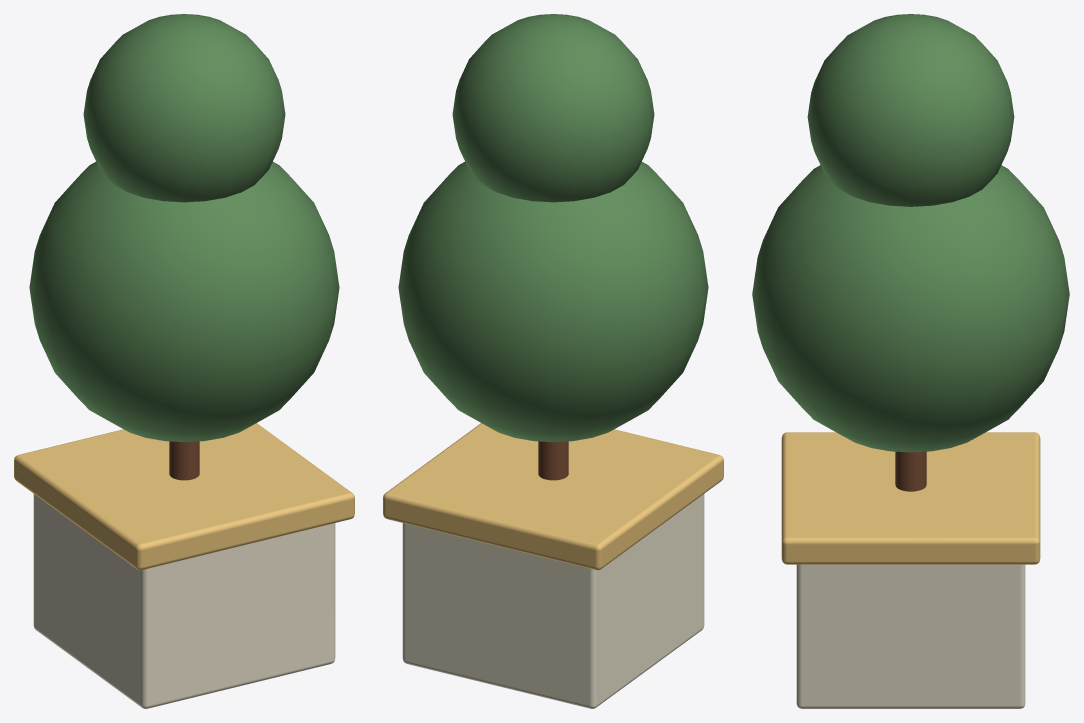
File: royal-court-and-throne-palace-topiary-planter-33415f17__29417.glb
The picture shows the model from 3 angles, left to right: view 1: azimuth 30°, elevation 25°; view 2: azimuth 150°, elevation 25°; view 3: azimuth 270°, elevation 25°; orthographic projection. The views are drawn at different scales.
Visible parts, largest first — view 1: topiary-planter; view 2: topiary-planter; view 3: topiary-planter.
Part boxes in pixels (x1,y1,x2,y2): topiary-planter: (14,14,354,708); topiary-planter: (383,14,723,708); topiary-planter: (752,14,1069,708).
Bounding box in the file's own units: 0.86 × 1.91 × 0.86.
